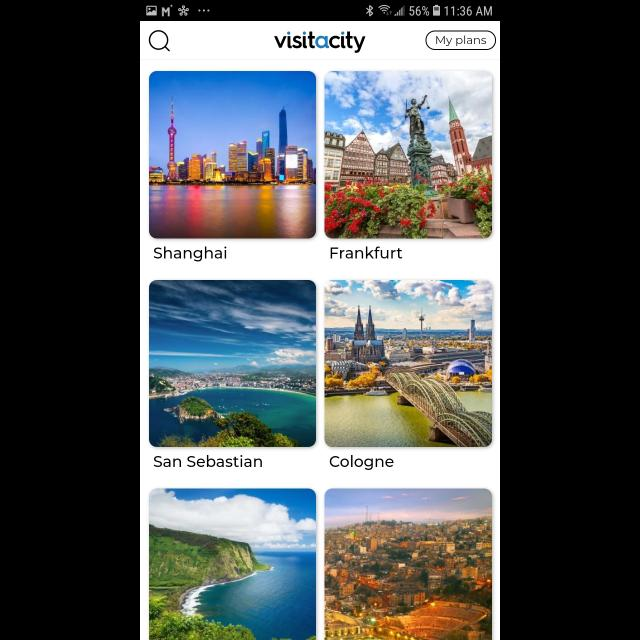icon: (149, 30, 171, 52)
image: (324, 280, 492, 448), (150, 280, 316, 448), (150, 71, 316, 239), (326, 71, 492, 239), (324, 488, 492, 640), (150, 488, 316, 640), (274, 32, 366, 54)
text: (154, 454, 262, 468), (154, 246, 226, 262), (330, 456, 394, 470), (331, 247, 403, 259)
textbutton: (426, 31, 496, 51)
uppertaskbar: (140, 1, 500, 22)
